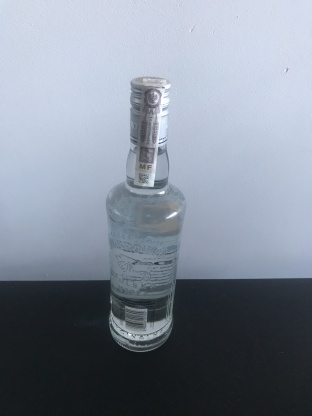nakretka: (127, 72, 173, 148)
